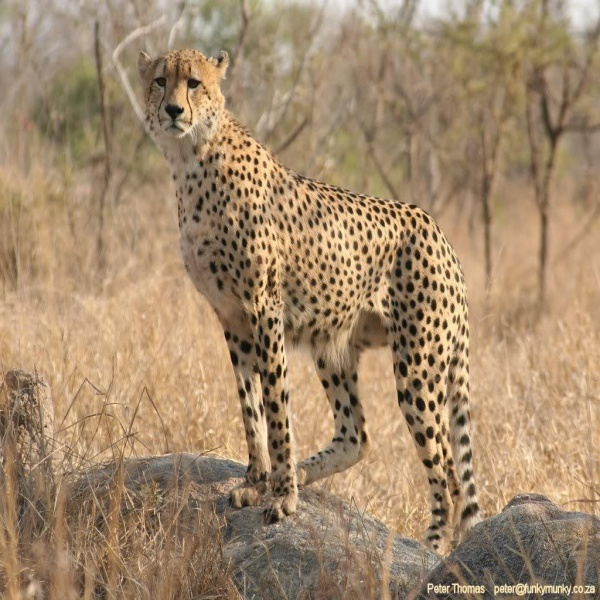Cheetah: (134, 44, 496, 550)
